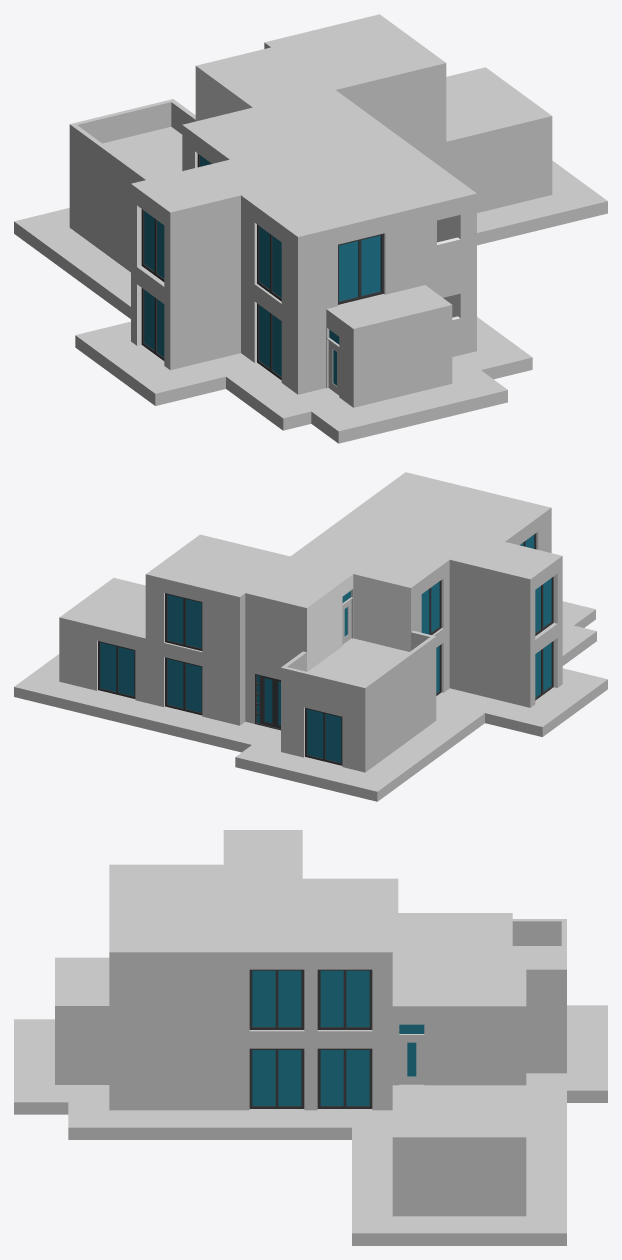
3 views of the same model, one above another, from view 1: azimuth 30°, elevation 25°; view 2: azimuth 150°, elevation 25°; view 3: azimuth 270°, elevation 25° (orthographic). The views are drawn at different scales.
Parts seen in each view (by area): view 1: G-OuterShell, C-Component#7, C-Component#20.012, C-Component#20.005, C-Component#20.007, C-Component#20, C-Component#20.003, C-Component#25, _C-Component#10 (Loose Mesh).012; view 2: G-OuterShell, C-Component#7, C-Component#20.004, C-Component#20.006, C-Component#20.009, C-Component#20.014, C-Component#20.001, C-Component#20, C-Component#20.003, C-Component#12, C-Component#25.002, _C-Component#10 (Loose Mesh).014 (+4 smaller); view 3: G-OuterShell, C-Component#7, C-Component#20.010, C-Component#20.011, C-Component#20.008, C-Component#20.013, C-Component#25.001, _C-Component#10 (Loose Mesh).008, _C-Component#10 (Loose Mesh).010, _C-Component#10 (Loose Mesh).011, _C-Component#10 (Loose Mesh).013.
Boxes of the visible parts, box(x1,y1,x2,y2) form: G-OuterShell: box(69, 14, 552, 407); C-Component#7: box(14, 160, 607, 443); C-Component#20.012: box(339, 235, 380, 301); C-Component#20.005: box(259, 226, 281, 297); C-Component#20.007: box(259, 305, 281, 376); C-Component#20: box(144, 211, 164, 278); C-Component#20.003: box(144, 290, 164, 357); C-Component#25: box(326, 326, 339, 397); _C-Component#10 (Loose Mesh).012: box(338, 233, 383, 304); G-OuterShell: box(59, 472, 562, 772); C-Component#7: box(14, 601, 607, 801); C-Component#20.004: box(307, 709, 341, 762); C-Component#20.006: box(100, 642, 134, 696); C-Component#20.009: box(167, 594, 201, 648); C-Component#20.014: box(167, 659, 201, 712); C-Component#20.001: box(421, 581, 439, 634); C-Component#20: box(535, 578, 551, 632); C-Component#20.003: box(535, 642, 551, 697); C-Component#12: box(261, 675, 280, 728); C-Component#25.002: box(342, 588, 353, 645); _C-Component#10 (Loose Mesh).014: box(165, 657, 202, 715); G-OuterShell: box(55, 830, 566, 1216); C-Component#7: box(14, 1005, 607, 1245); C-Component#20.010: box(252, 970, 301, 1026); C-Component#20.011: box(320, 970, 369, 1026); C-Component#20.008: box(320, 1050, 369, 1105); C-Component#20.013: box(252, 1050, 301, 1105); C-Component#25.001: box(398, 1023, 425, 1085); _C-Component#10 (Loose Mesh).008: box(317, 1048, 372, 1108); _C-Component#10 (Loose Mesh).010: box(249, 969, 304, 1029); _C-Component#10 (Loose Mesh).011: box(317, 969, 372, 1029); _C-Component#10 (Loose Mesh).013: box(249, 1048, 304, 1108).
Bounding box in the file's own units: 22.8 × 6.9 × 21.8.
